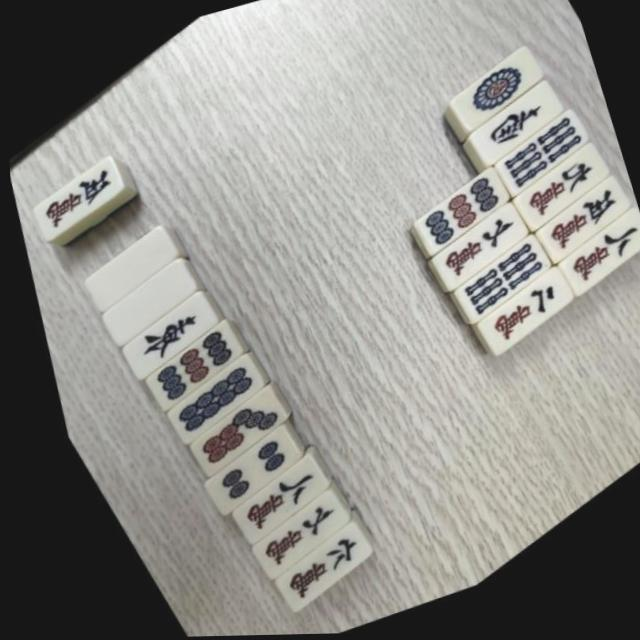hdw: (80, 262, 195, 351), (66, 231, 172, 312)
hwe: (101, 296, 215, 383)
hws: (457, 93, 564, 175)
sb6: (477, 118, 593, 208)
sc5: (521, 185, 635, 273), (26, 161, 109, 240)
sc6: (258, 524, 377, 616)
sc7: (233, 493, 351, 584)
sc8: (215, 458, 330, 547), (542, 219, 640, 308)
sc9: (497, 153, 613, 242)
sd1: (431, 55, 548, 144)
sd4: (185, 430, 302, 519)
sd7: (170, 390, 288, 481)
sd8: (148, 359, 263, 448)
sd9: (124, 325, 240, 415)
